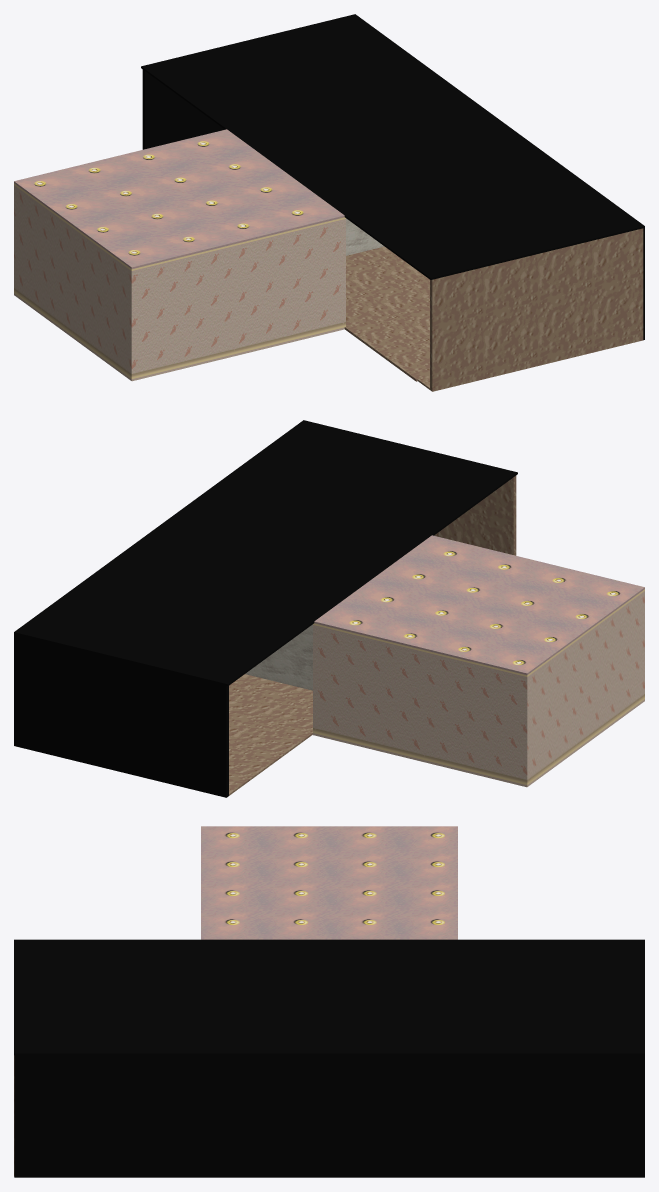
Rendered from Intro7_brush.glb.
The picture shows the model from 3 angles, top to bottom: view 1: azimuth 30°, elevation 25°; view 2: azimuth 150°, elevation 25°; view 3: azimuth 270°, elevation 25°; orthographic projection. The views are drawn at different scales.
Visible parts, largest first — view 1: Intro7; view 2: Intro7; view 3: Intro7.
Part boxes in pixels (box(x1,y1,x2,y2)): Intro7: box(14, 14, 644, 391); Intro7: box(14, 420, 644, 797); Intro7: box(14, 826, 644, 1177).
Size of the model in its own units: 1005 by 257 by 1180.
7 materials, 7 textured.
